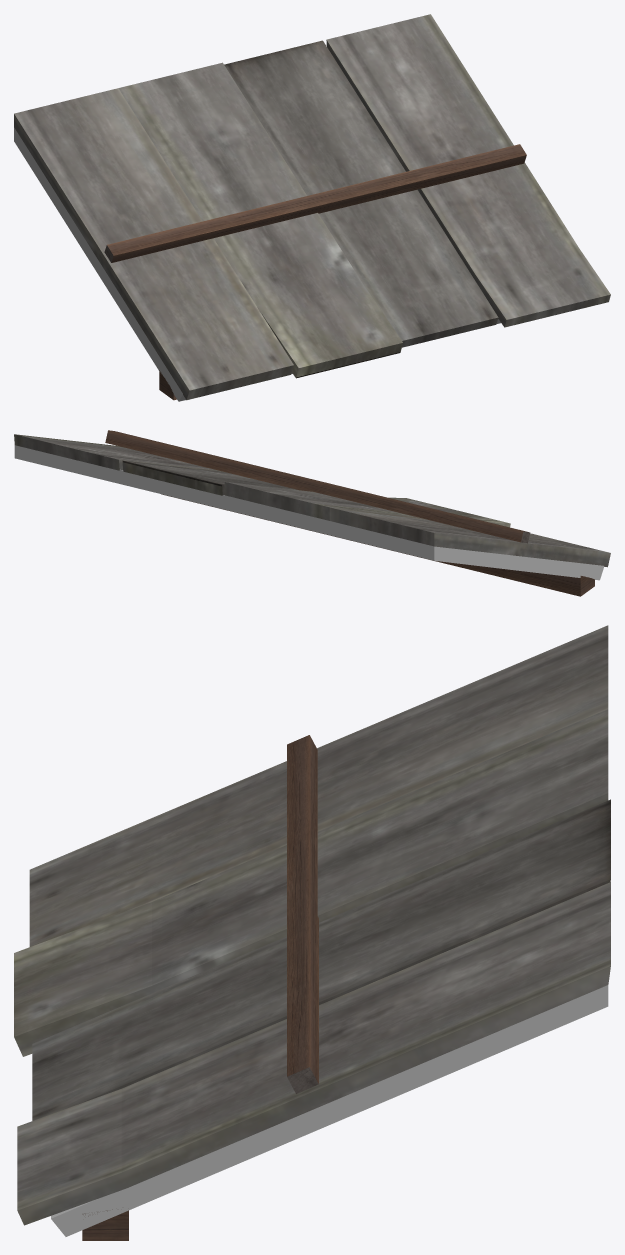
Rendered from itabuki_1x1t_a1middle.fbx.
3 renders of one model, top to bottom at view 1: azimuth 30°, elevation 25°; view 2: azimuth 150°, elevation 25°; view 3: azimuth 270°, elevation 25°, orthographic. The views are drawn at different scales.
Parts seen in each view (by area): view 1: itabuki_1x1t_a1middle; view 2: itabuki_1x1t_a1middle; view 3: itabuki_1x1t_a1middle.
Part boxes in pixels (left/top/right/bottom): itabuki_1x1t_a1middle: left=14, top=14, right=610, bottom=401; itabuki_1x1t_a1middle: left=14, top=430, right=610, bottom=596; itabuki_1x1t_a1middle: left=14, top=625, right=610, bottom=1240.
Bounding box in the file's own units: 220 × 85.54 × 165.
